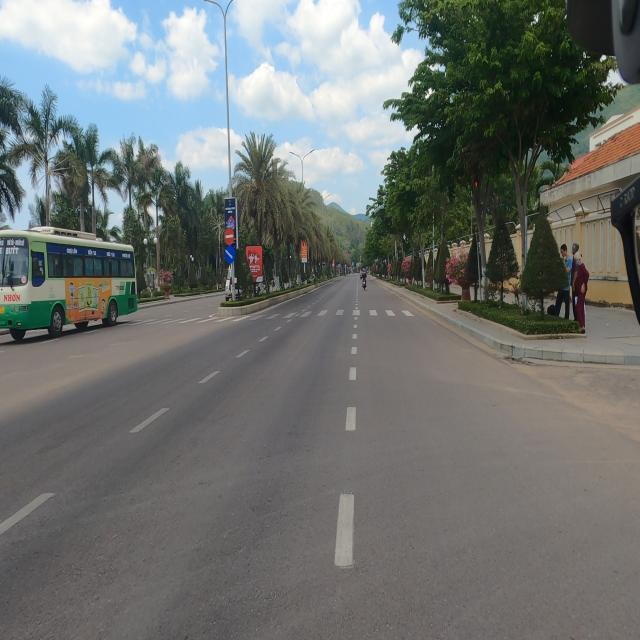walk-crossing: (156, 304, 416, 327)
